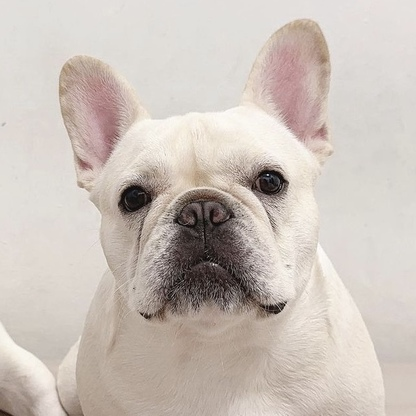bulldog: (54, 17, 394, 416)
